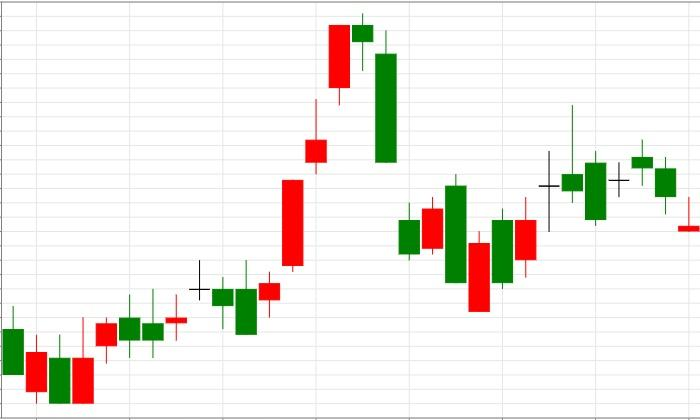evening_star_fall: (259, 14, 396, 318)
